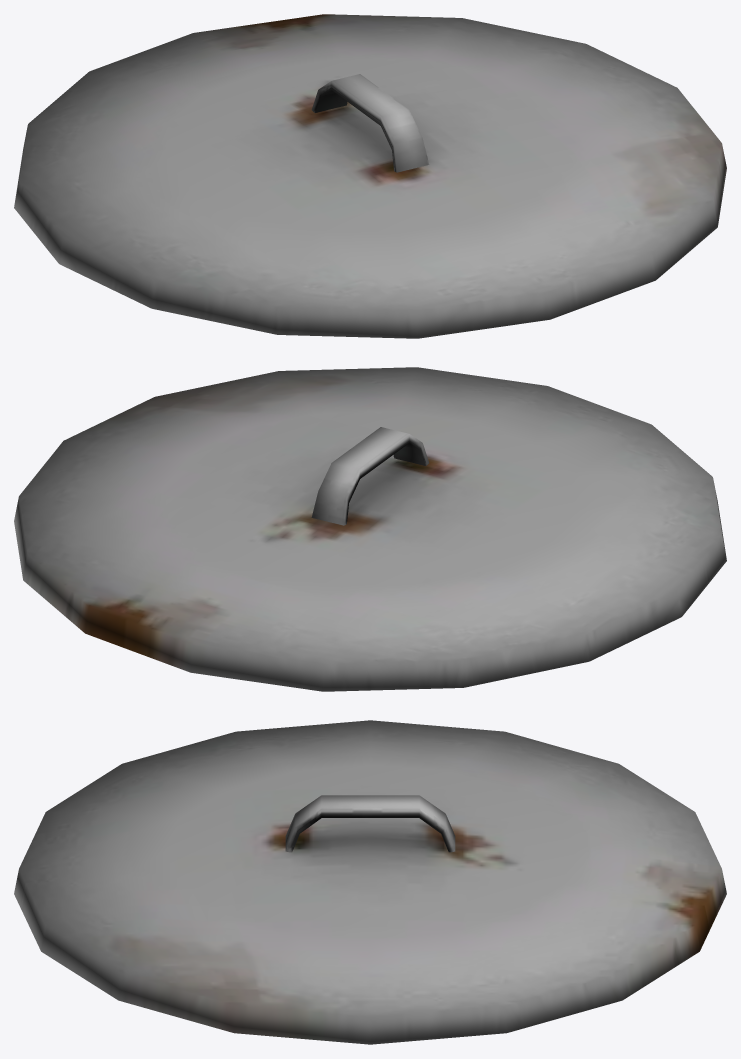
The picture shows the model from 3 angles, top to bottom: view 1: azimuth 30°, elevation 25°; view 2: azimuth 150°, elevation 25°; view 3: azimuth 270°, elevation 25°; orthographic projection.
Visible parts, largest first — view 1: body0_model0_lod0_mesh0; view 2: body0_model0_lod0_mesh0; view 3: body0_model0_lod0_mesh0.
Part boxes in pixels (x1,y1,x2,y2): body0_model0_lod0_mesh0: [14, 14, 726, 338]; body0_model0_lod0_mesh0: [14, 367, 726, 691]; body0_model0_lod0_mesh0: [14, 720, 726, 1044].
Bounding box in the file's own units: 35.09 × 5 × 35.09.
Materials: 1 (1 with a texture image).
